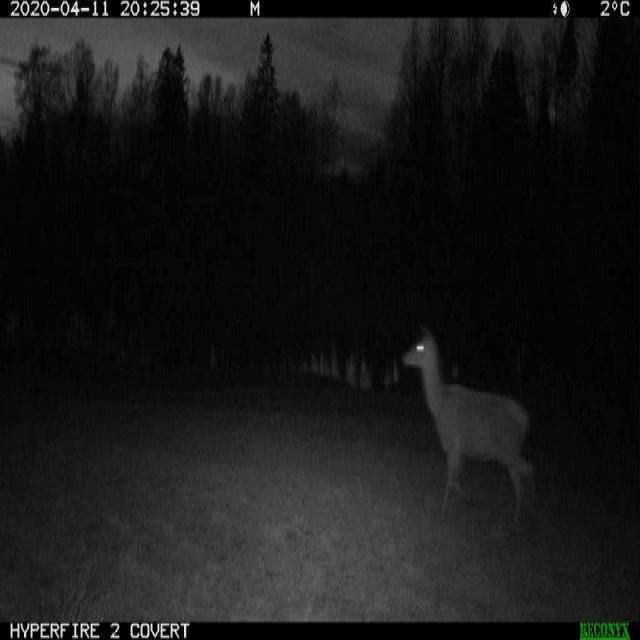deer: (394, 318, 546, 531)
